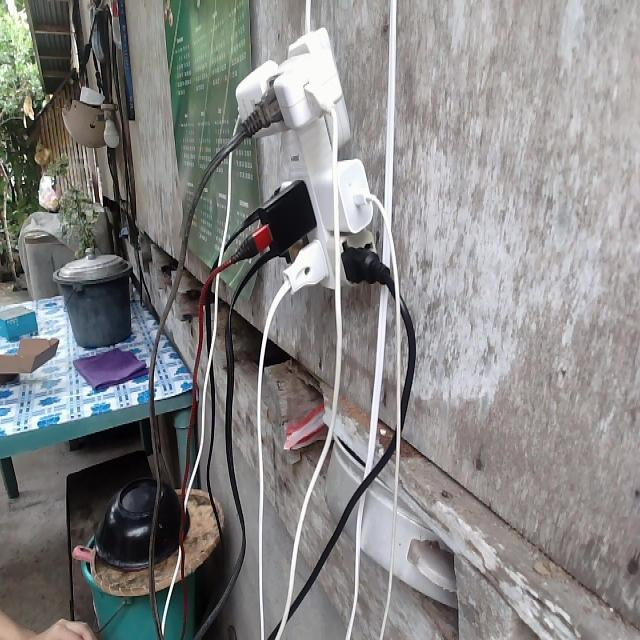-: (225, 24, 395, 295)
